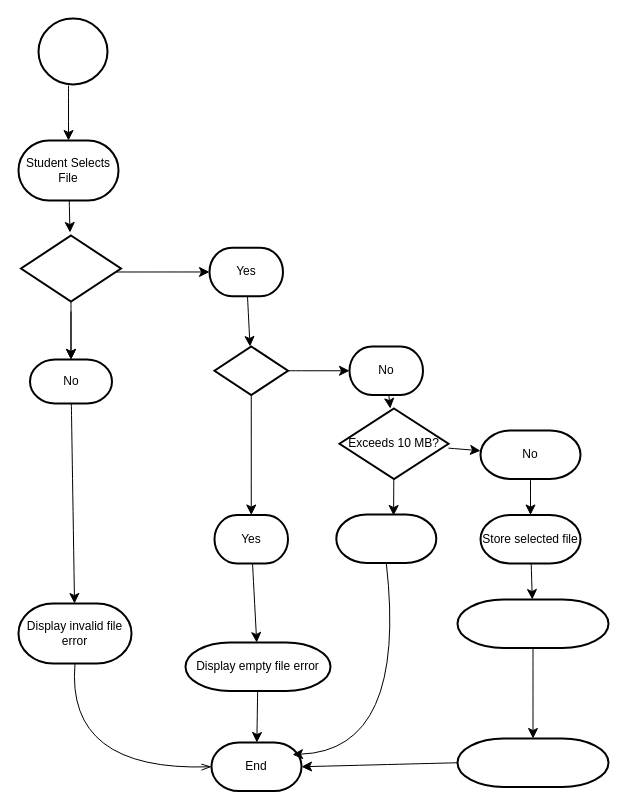
The diagram is 626 pixels wide and 809 high, and some of its shapes have lost their labels. The shapes that lost their labels are listed below. From the top down, each one's centre as x and y in pixels, then its label:
the point at 72,51: Start
the point at 71,268: Valid PDF Format?
the point at 250,370: File Empty
the point at 386,538: Display Size Error
the point at 532,623: Display filename and size
the point at 532,762: Show upload confirmation
